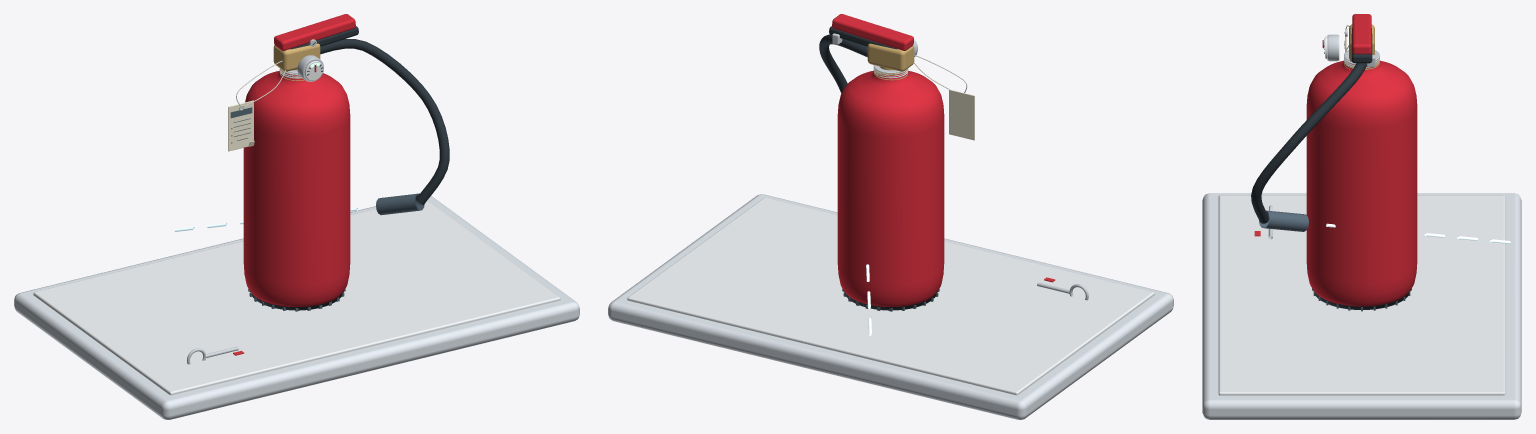
File: fire-discharging.glb
3 renders of one model, left to right at view 1: azimuth 30°, elevation 25°; view 2: azimuth 150°, elevation 25°; view 3: azimuth 270°, elevation 25°, orthographic. The views are drawn at different scales.
Visible parts, largest first — view 1: fire-discharging; view 2: fire-discharging; view 3: fire-discharging.
Part boxes in pixels (x1=…): fire-discharging: x1=14, y1=14, x2=579, y2=419; fire-discharging: x1=608, y1=14, x2=1173, y2=419; fire-discharging: x1=1202, y1=14, x2=1521, y2=419.
Size of the model in its own units: 0.77 by 0.5064 by 0.49.
